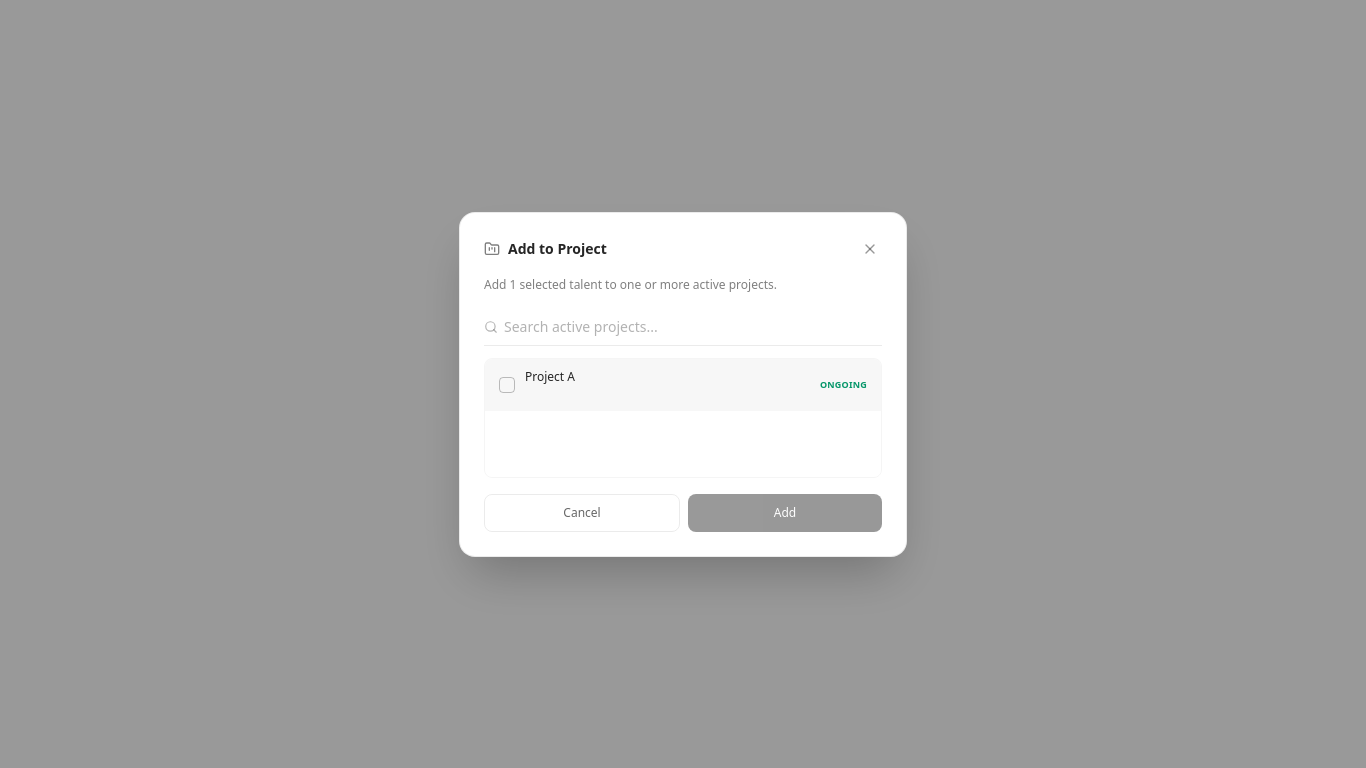
AddToProjectModal — template picker (new behaviour) › Send is disabled until a template is selected — no request is sent without one
Later steps or results of the test are not shown.
Click the button with test id "add-to-project-option-proj-a".
click(550, 376)  # box [485,358,881,410]
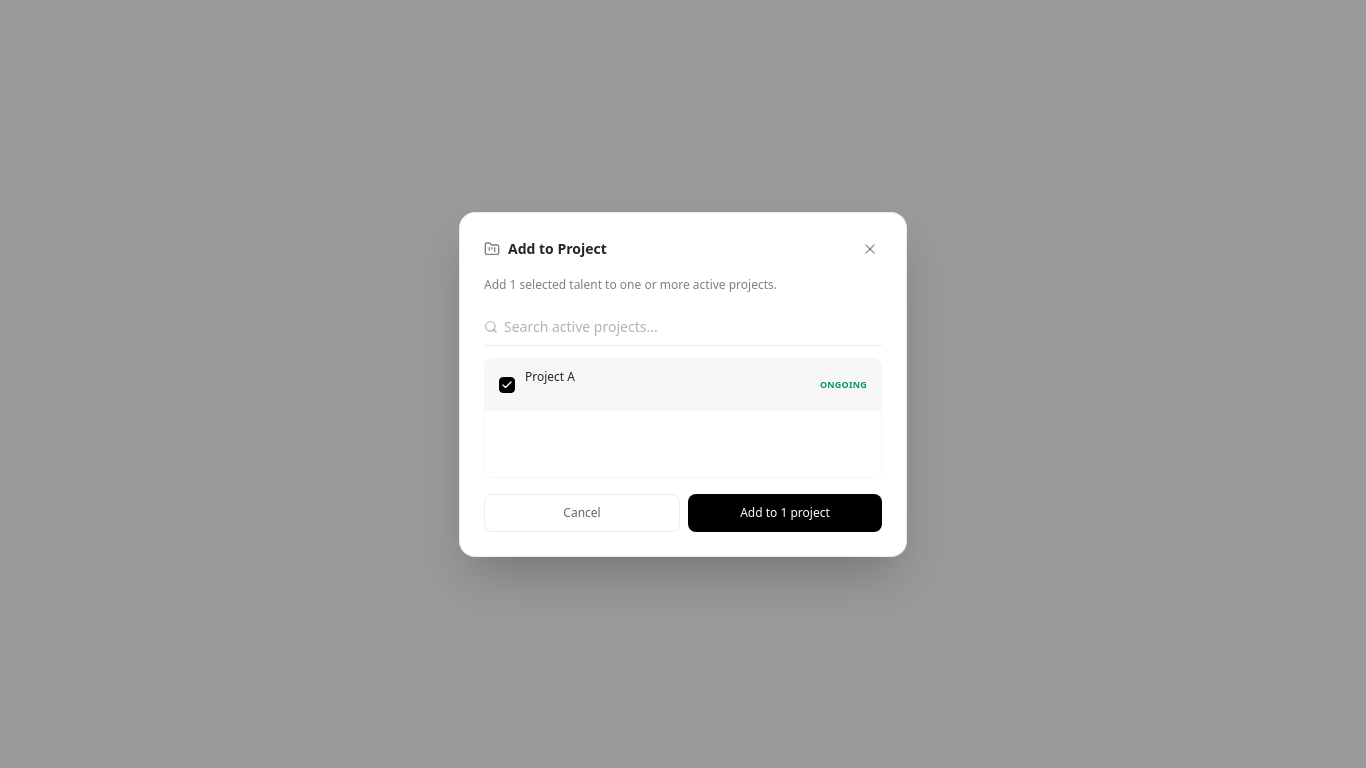
Click the button with test id "add-to-project-submit".
click(785, 512)  # box [688,494,882,532]
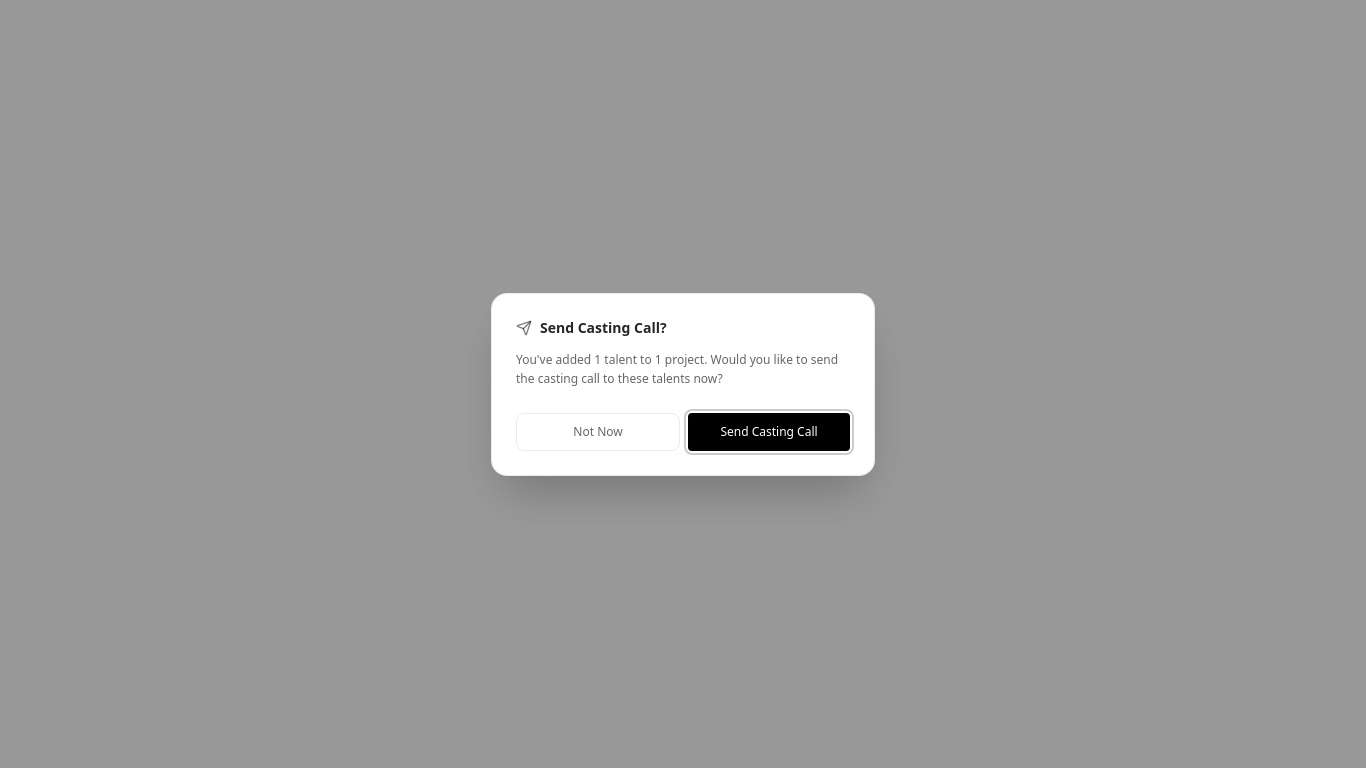
Expected: the element with test id "send-casting-call-modal" is shown, [491,292,875,476]
Click the button with test id "send-casting-call-confirm".
click(769, 432)  # box [688,412,850,450]
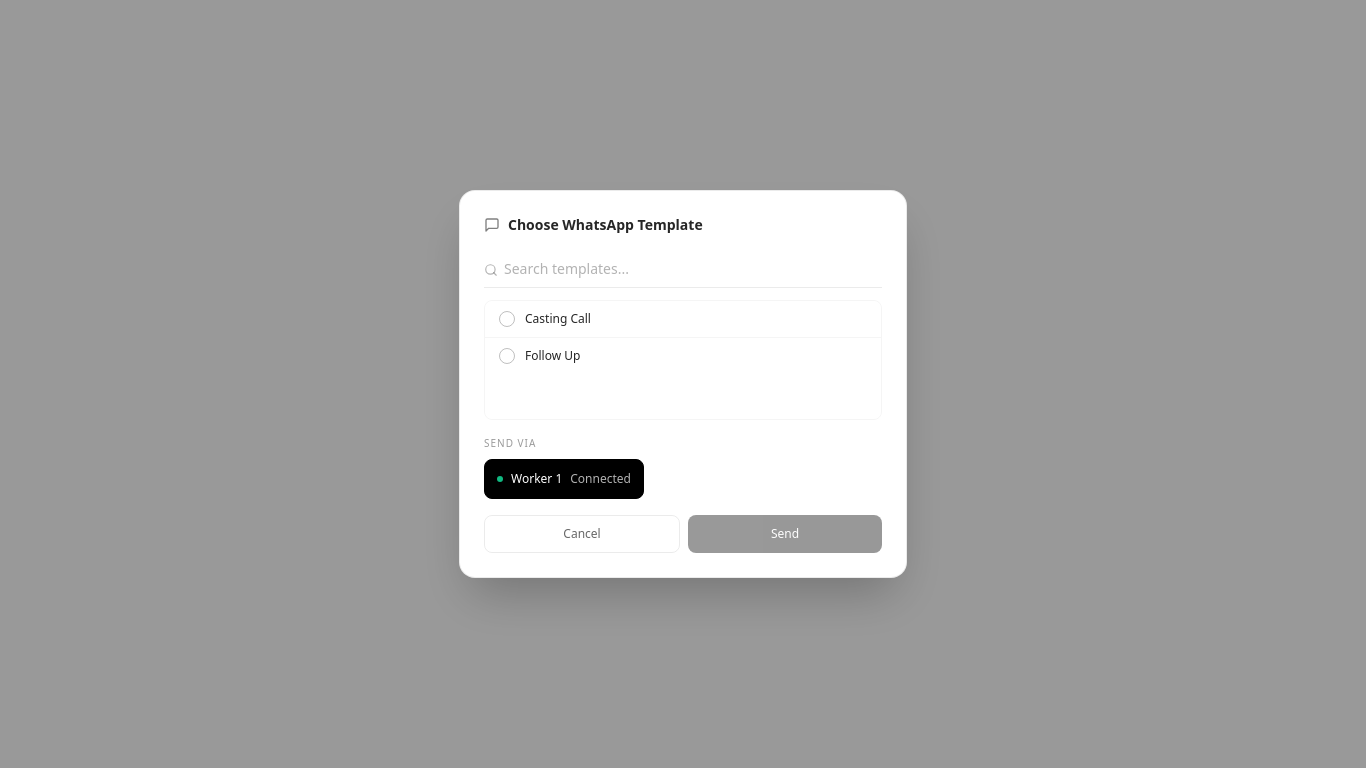
Expected: the button with test id "template-picker-send" is disabled, [688,515,882,553]
Expected: the element with test id "template-picker-modal" is shown, [459,190,907,578]
